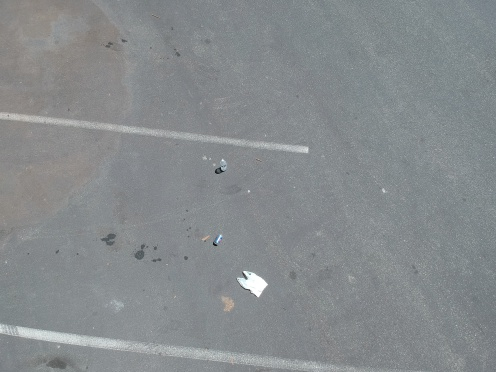bottle: (214, 155, 231, 175)
can: (211, 229, 226, 248)
plastic bag: (230, 265, 275, 301)
